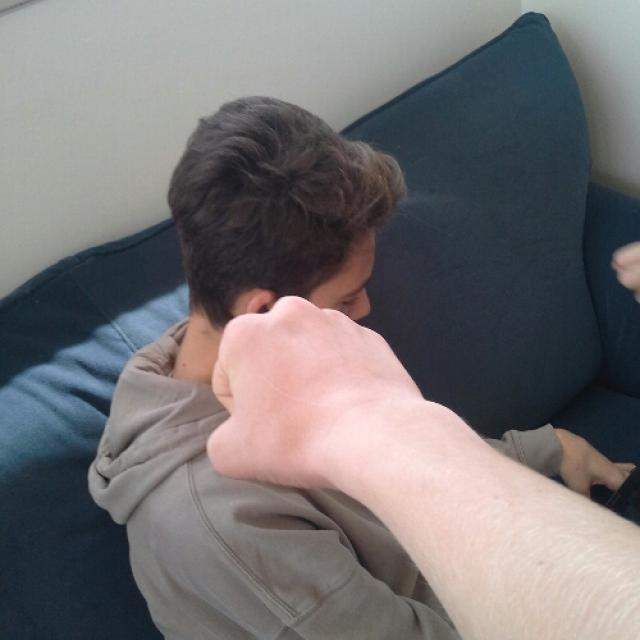rock: (208, 296, 410, 495)
